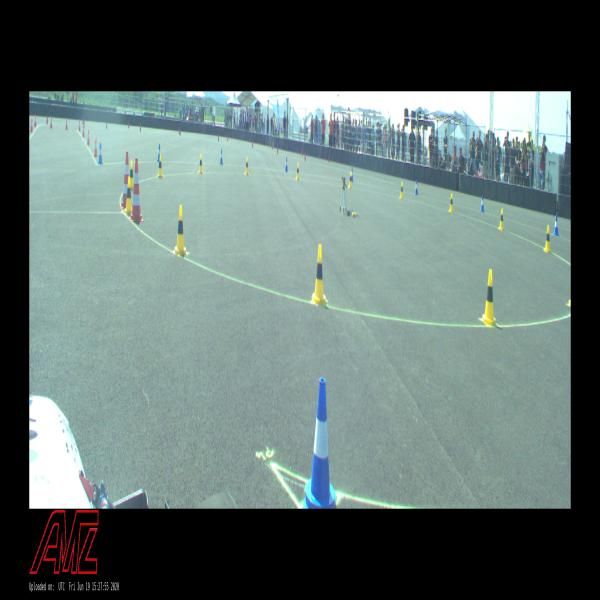blue_cone: (303, 378, 337, 508), (553, 215, 559, 236), (98, 143, 103, 164), (480, 195, 484, 212), (414, 180, 418, 195), (285, 157, 288, 172), (220, 150, 223, 164), (158, 144, 160, 162), (352, 168, 354, 182)
large_orange_cone: (131, 159, 143, 221), (122, 152, 129, 209)
orange_cone: (94, 138, 98, 157), (30, 118, 34, 132), (87, 130, 90, 145), (78, 120, 81, 131), (66, 118, 68, 130), (34, 115, 36, 126), (82, 125, 84, 136), (50, 117, 52, 128)
yellow_cone: (312, 244, 327, 304), (482, 269, 496, 327), (174, 205, 188, 255), (125, 176, 132, 213), (544, 225, 551, 252), (130, 160, 134, 190), (158, 155, 163, 178), (498, 208, 503, 230), (199, 154, 203, 174), (449, 193, 453, 213), (245, 157, 249, 175), (400, 182, 404, 198), (348, 172, 352, 188), (296, 163, 299, 180)
